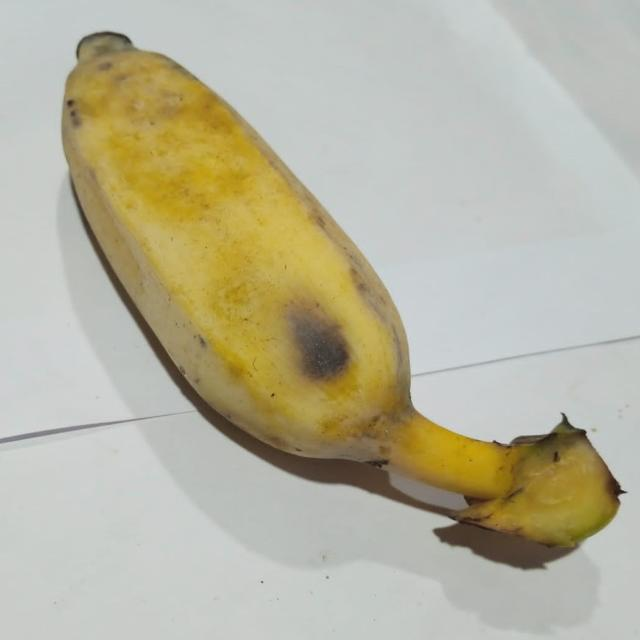banana: (63, 33, 620, 545)
